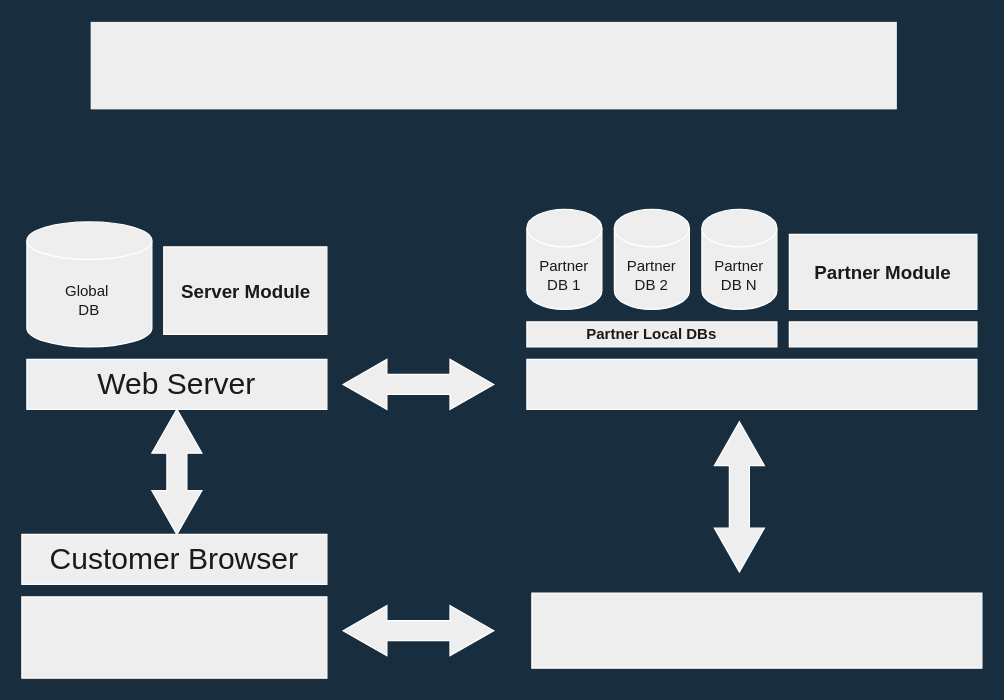
Image size: 1004x700. Some labels were removed from this diagram. Each missing label, with the centre of its shape:
"Customer Module" belongs at (174,637).
"Google Location API" belongs at (756,630).
"Hyperlocal Delivery System Architecture" belongs at (493,65).
"Partner Browser" belongs at (882,334).
"Recommendation Engine" belongs at (751,383).
